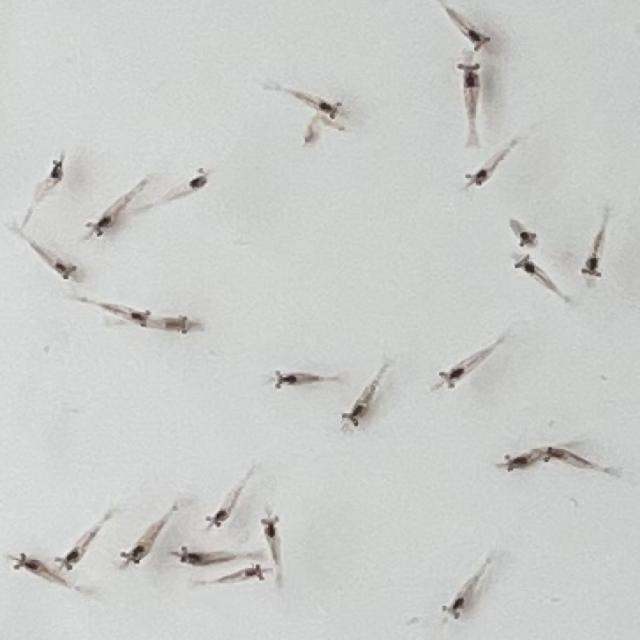shrimp-seed: (316, 96, 347, 125), (82, 213, 112, 241), (187, 166, 216, 194), (116, 544, 146, 571), (164, 312, 196, 337), (456, 61, 485, 88), (10, 552, 42, 576), (542, 442, 571, 468), (258, 516, 286, 542), (439, 594, 466, 620), (464, 166, 492, 191), (340, 402, 368, 427), (128, 305, 154, 331), (438, 366, 466, 390), (54, 548, 82, 572), (580, 254, 605, 280), (465, 28, 492, 52), (51, 260, 78, 284), (272, 366, 299, 390), (203, 508, 231, 531), (504, 450, 530, 474), (242, 562, 270, 582), (176, 545, 201, 567), (513, 255, 539, 276), (48, 158, 68, 185), (516, 230, 540, 250)
